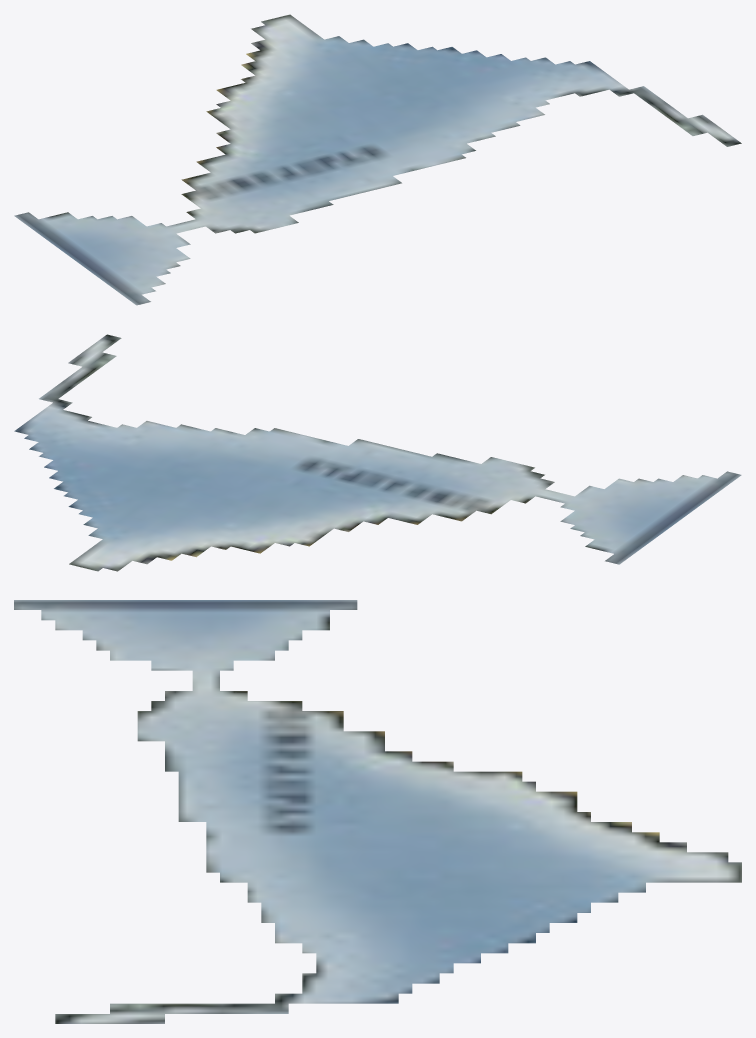
Rendered from western-med-sea.gltf.
3 renders of one model, top to bottom at view 1: azimuth 30°, elevation 25°; view 2: azimuth 150°, elevation 25°; view 3: azimuth 270°, elevation 25°, orthographic. The views are drawn at different scales.
Parts seen in each view (by area): view 1: Plane; view 2: Plane; view 3: Plane.
Part boxes in pixels (x1,y1,x2,y2): Plane: (14, 14, 741, 305); Plane: (14, 334, 741, 571); Plane: (14, 600, 741, 1023).
Size of the model in its own units: 0.4147 by 0 by 0.301.
1 material, 1 textured.
